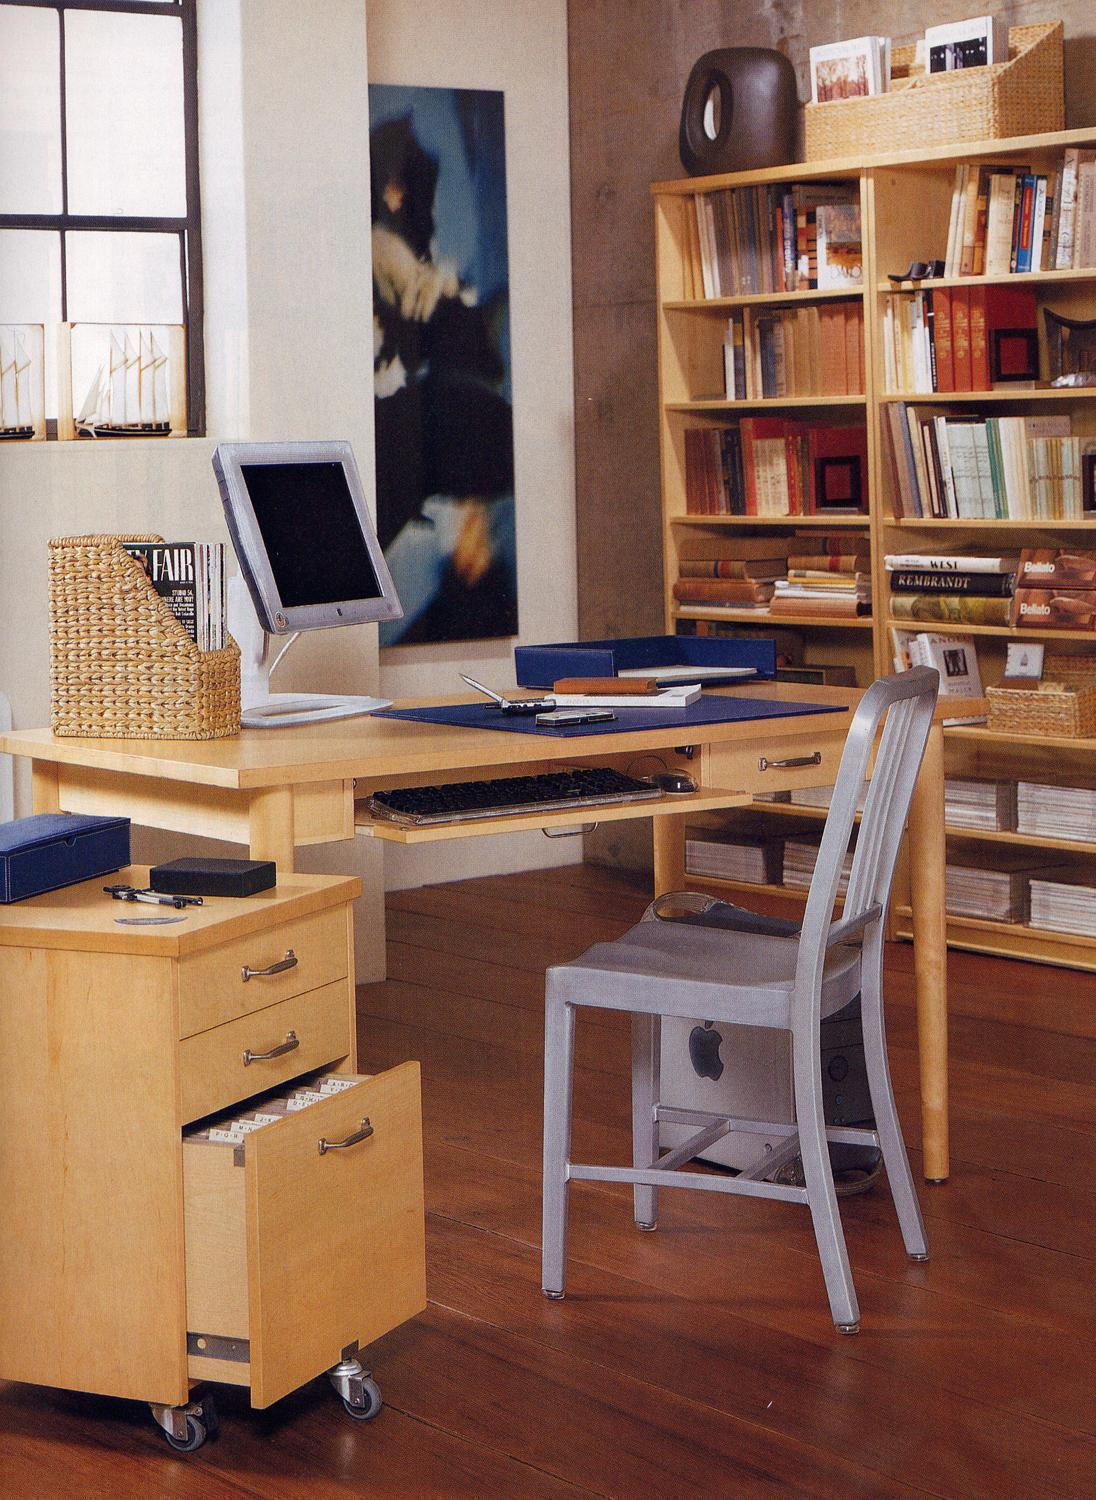Armario: (0, 887, 413, 1464)
Ventana: (5, 16, 205, 425)
